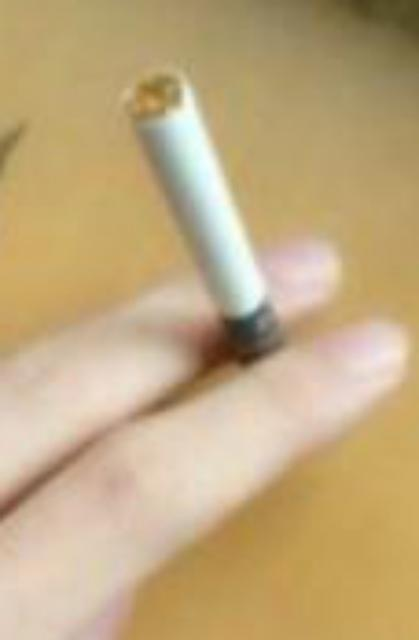Cigarette: (119, 64, 298, 392)
